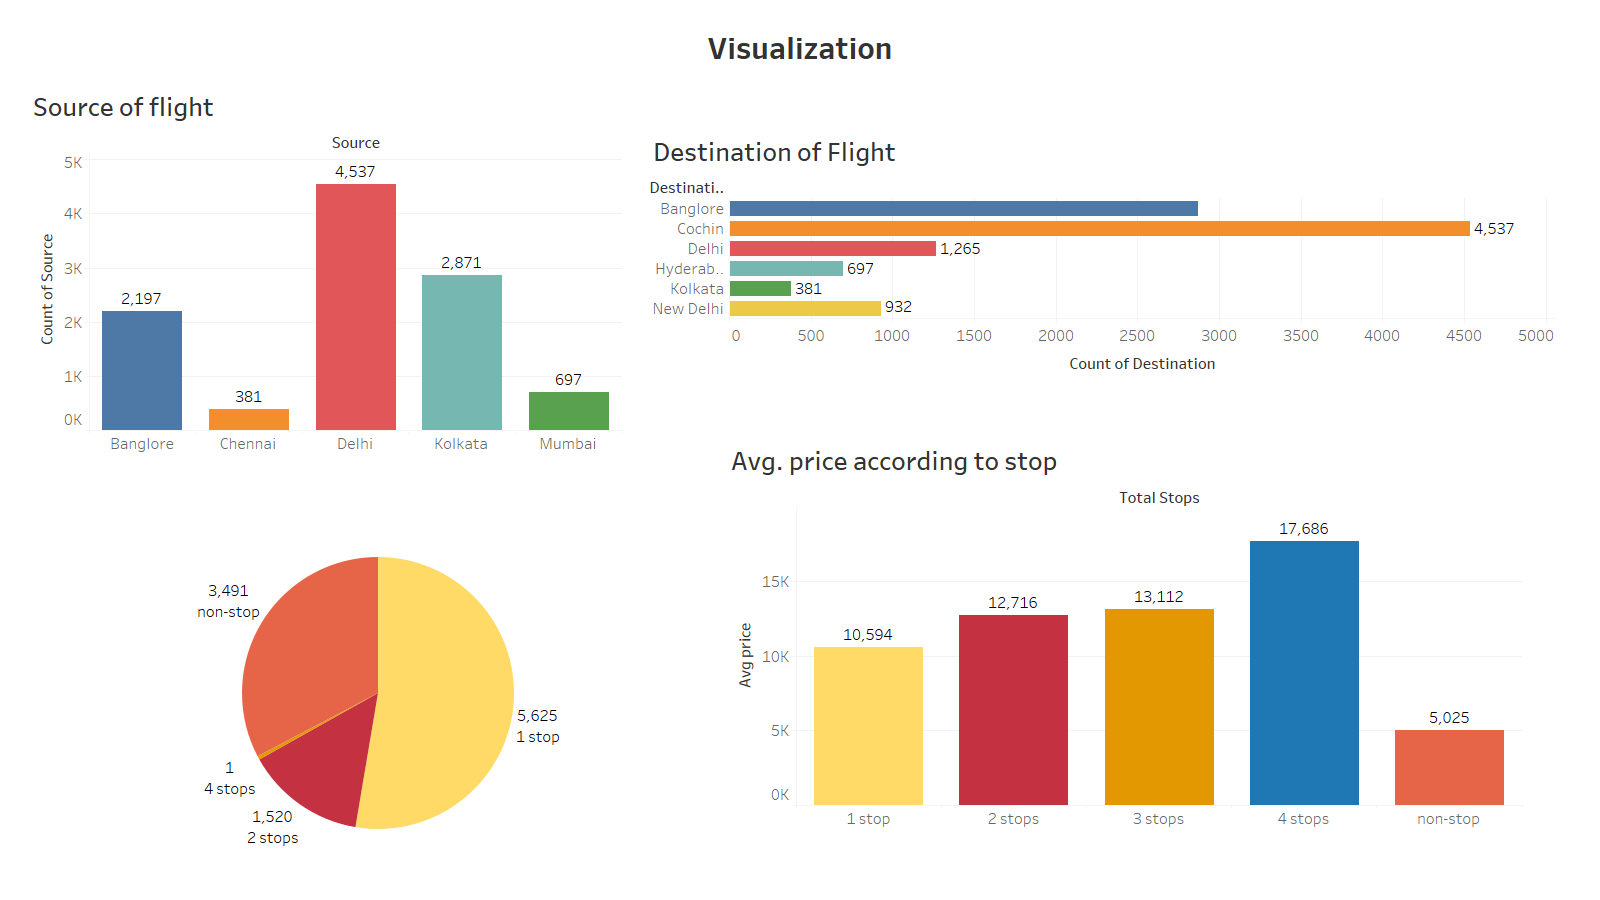

What the dashboard file says about the page in this screenshot:
{"tool":"tableau","page":{"name":"Dashboard 1","canvas":[1600,900],"ordinal":0},"visuals":[{"type":"title","box":[8,8,1584,78]},{"type":"worksheet","title":"Sheet 7","mark":"Automatic","rows":["Source"],"cols":["Source"],"box":[29,83,593,372]},{"type":"worksheet","title":"Sheet 2","mark":"Automatic","rows":["Destination"],"cols":["Destination"],"box":[649,128,917,345]},{"type":"worksheet","title":"Sheet 1","mark":"Automatic","rows":["Price"],"cols":["Total_Stops"],"box":[727,437,795,393]}]}

Visuals, with their boxes in screenshot pixels (x1, y1, x2, y2), scaled from the page's 1600x900 canvas onto the 1600x900 screenshot:
title: <box>8,8,1592,86</box>
"Sheet 7" worksheet: <box>29,83,622,455</box>
"Sheet 2" worksheet: <box>649,128,1566,473</box>
"Sheet 1" worksheet: <box>727,437,1522,830</box>
